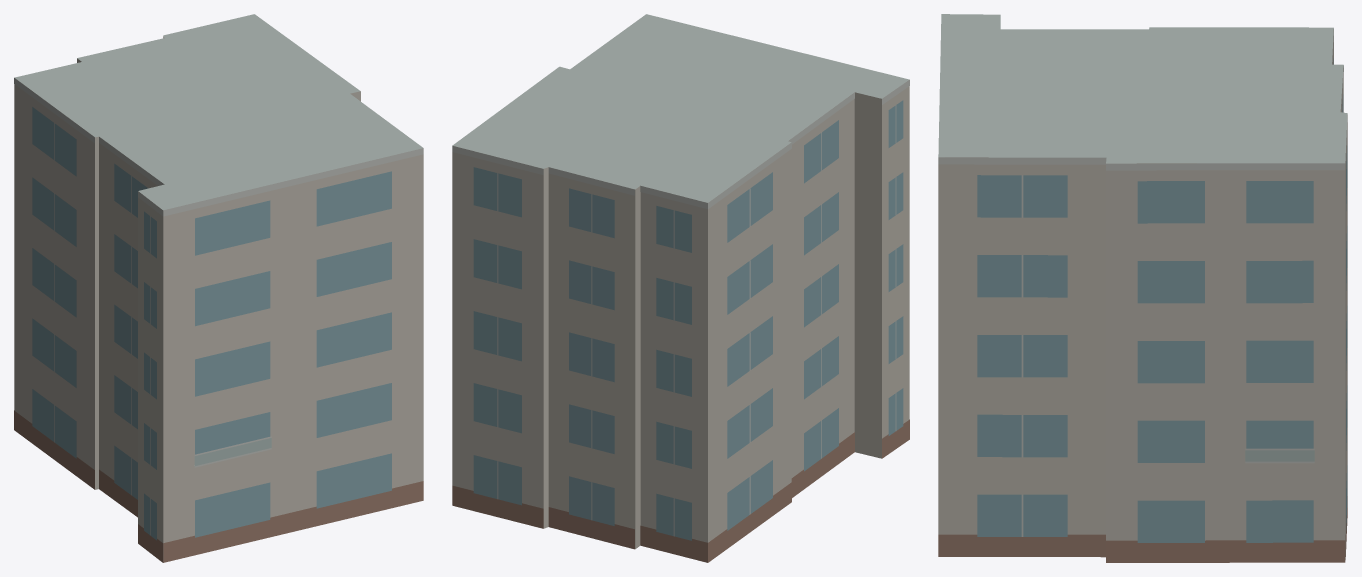
The model's file is survey-upis-32630713.glb.
3 renders of one model, left to right at view 1: azimuth 30°, elevation 25°; view 2: azimuth 150°, elevation 25°; view 3: azimuth 270°, elevation 25°, orthographic. The views are drawn at different scales.
Parts seen in each view (by area): view 1: survey-upis-32630713.tmp; view 2: survey-upis-32630713.tmp; view 3: survey-upis-32630713.tmp.
Boxes of the visible parts, left/top/right/bottom form: survey-upis-32630713.tmp: left=14, top=14, right=423, bottom=562; survey-upis-32630713.tmp: left=452, top=14, right=909, bottom=562; survey-upis-32630713.tmp: left=938, top=14, right=1347, bottom=562.
Bounding box in the file's own units: 11.11 × 13.8 × 12.82.
